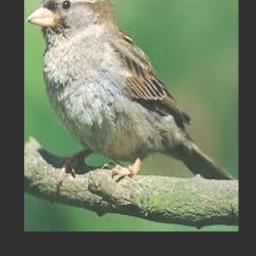Sparrow: (26, 0, 234, 186)
